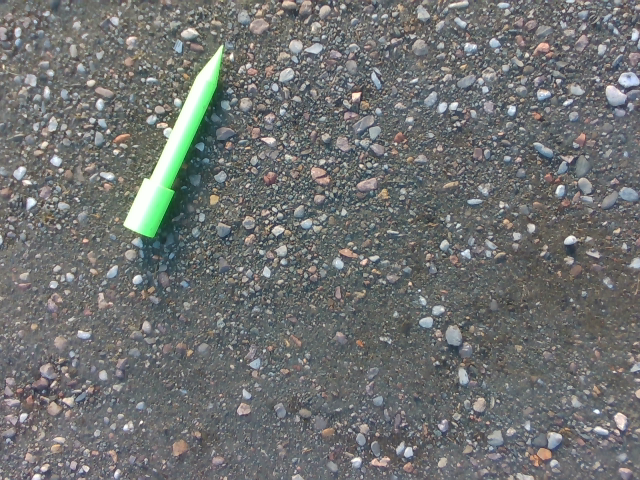Probe: (118, 37, 230, 245)
